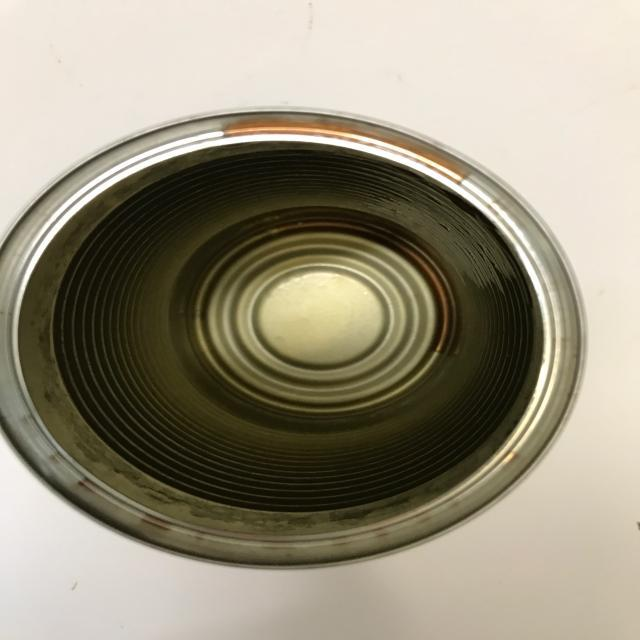metal: (2, 110, 590, 571)
